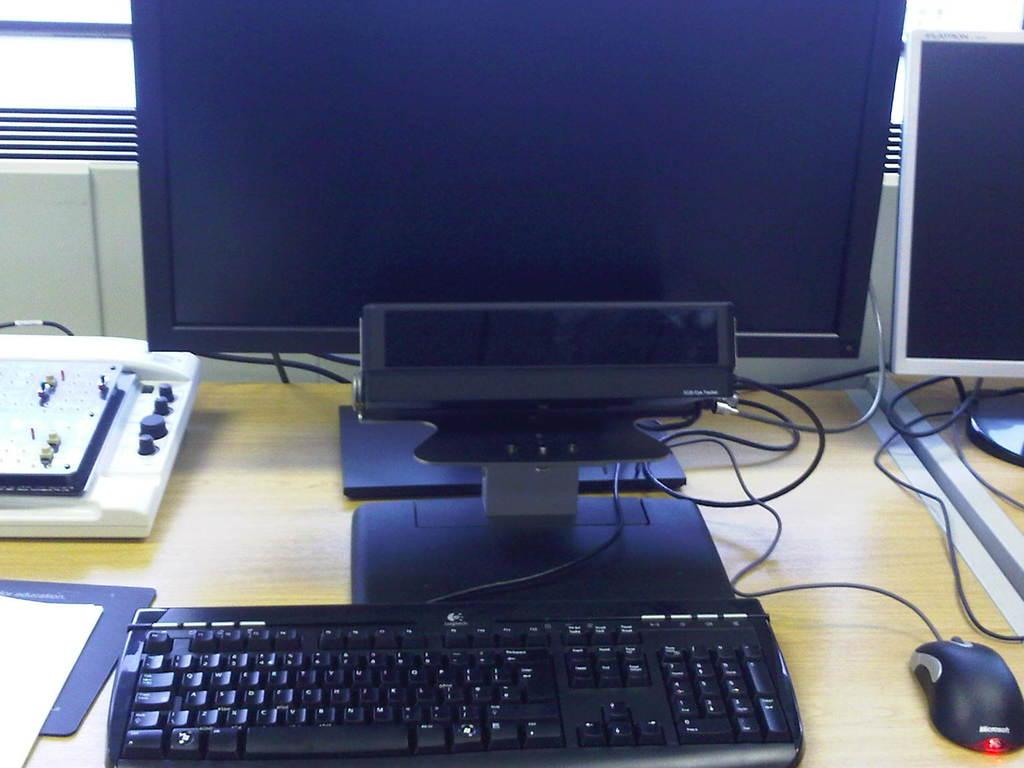Computer-mouse: (904, 623, 1021, 755)
